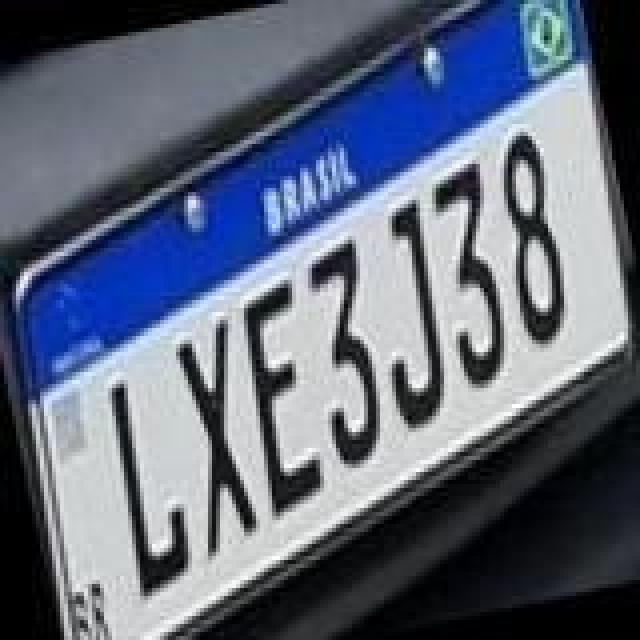3: (290, 234, 398, 470), (420, 160, 524, 392)
8: (484, 128, 580, 352)
E: (222, 274, 338, 518)
J: (352, 198, 464, 434)
L: (96, 374, 200, 602)
X: (158, 318, 274, 562)
